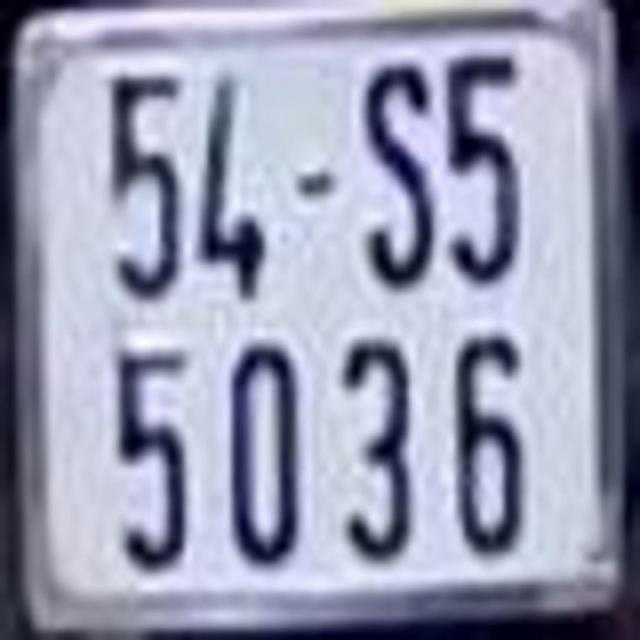0: (220, 336, 304, 576)
3: (335, 329, 420, 568)
4: (192, 68, 266, 304)
5: (102, 66, 185, 298), (442, 51, 521, 286), (114, 347, 192, 575)
6: (444, 326, 529, 558)
S: (356, 61, 434, 292)
